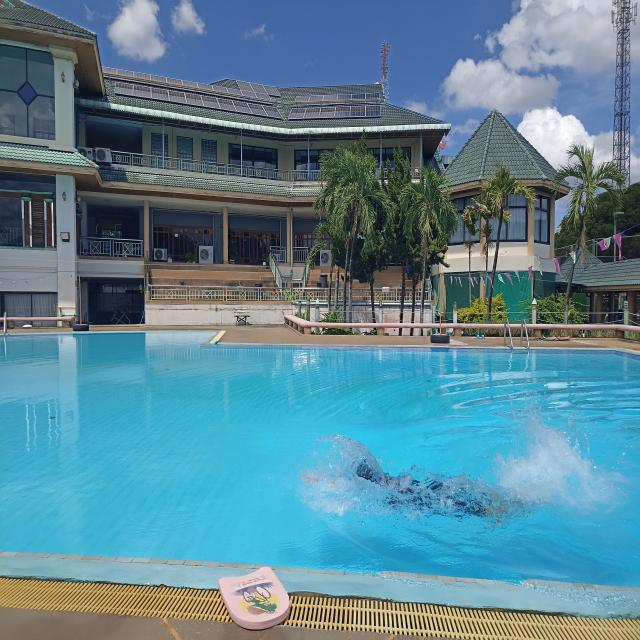Swimming: (296, 434, 556, 522)
